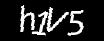1: (31, 11, 48, 35)
5: (67, 10, 83, 35)
V: (46, 7, 68, 31)
h: (20, 5, 35, 31)
